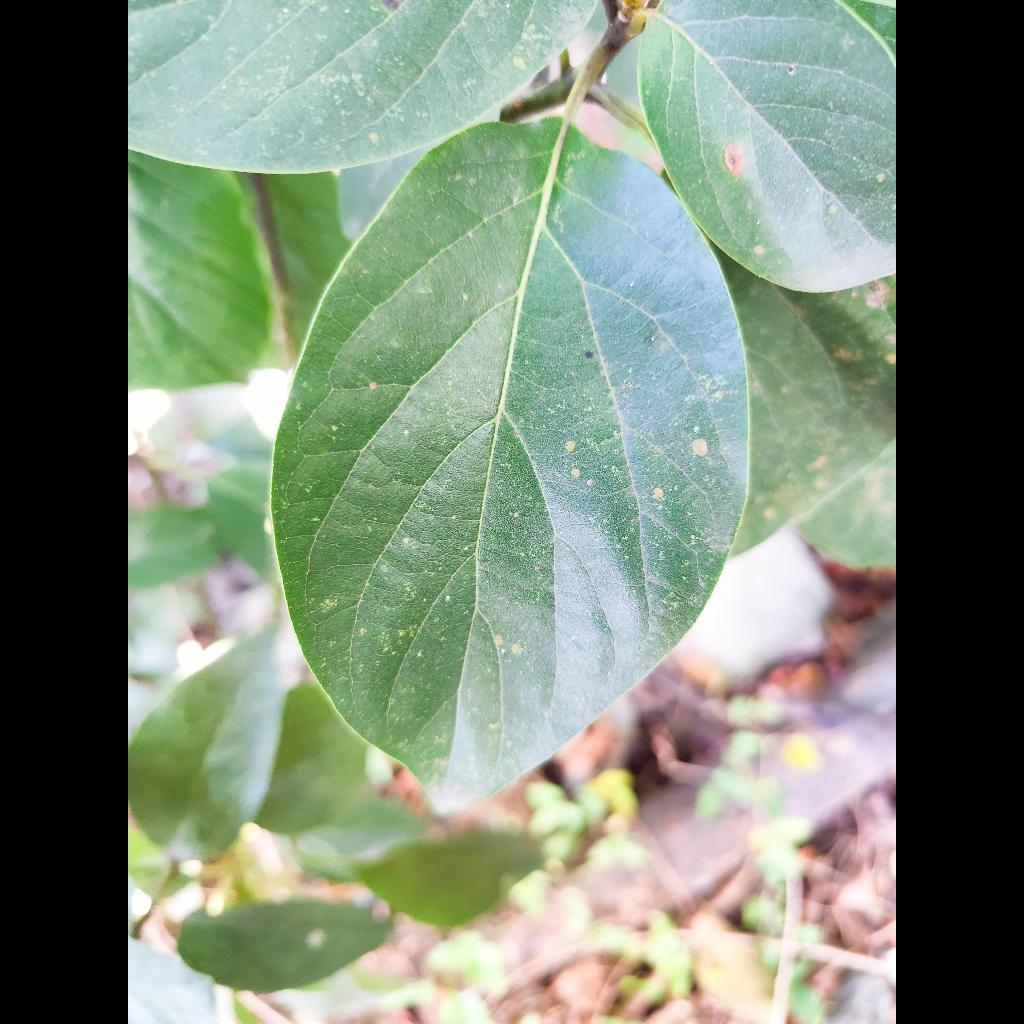antracnosis_hoja: (273, 118, 747, 809), (638, 0, 896, 291)
